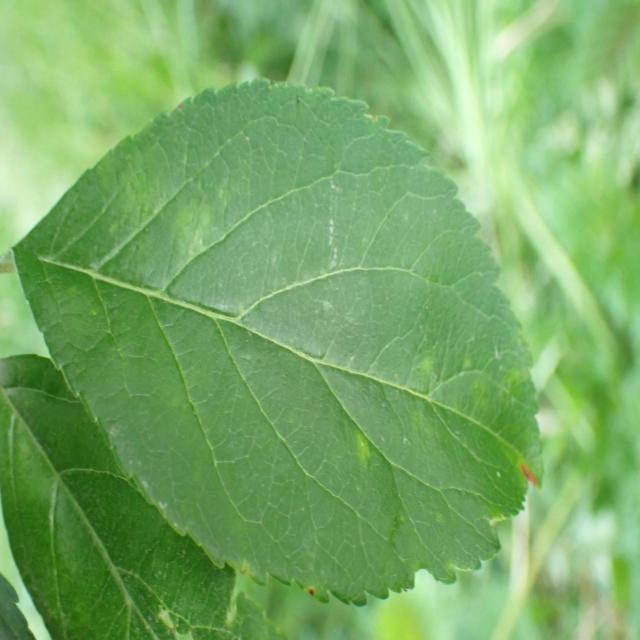Rust: (513, 424, 546, 514)
scab: (96, 116, 545, 546)
